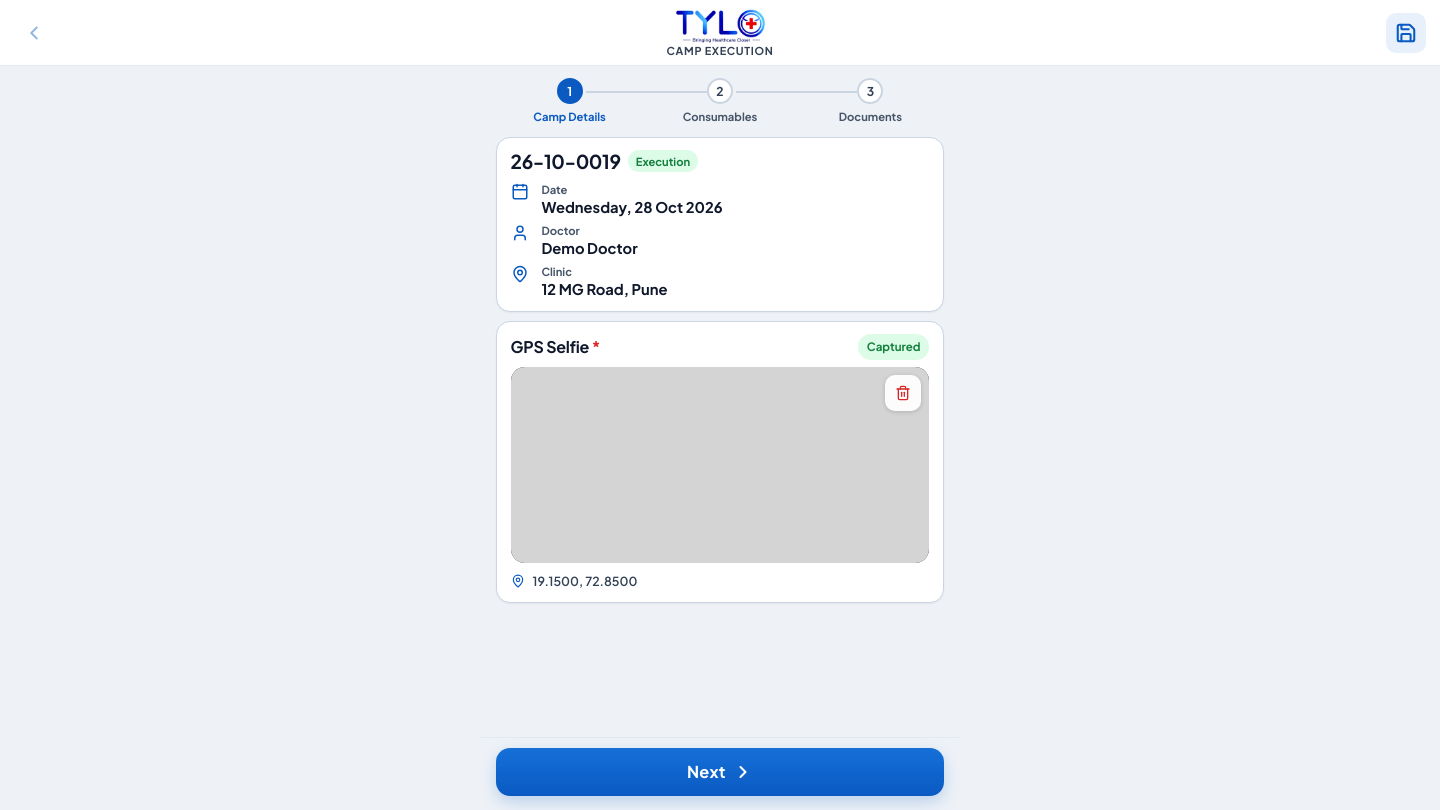
Scenario: CampExecutePage activity form layout › saves In Time from an existing GPS selfie capture without showing the field
Expected: the text "26-10-0019" is shown, [511, 150, 621, 172]
Click the button "Next" at (720, 772), box [496, 748, 944, 796]
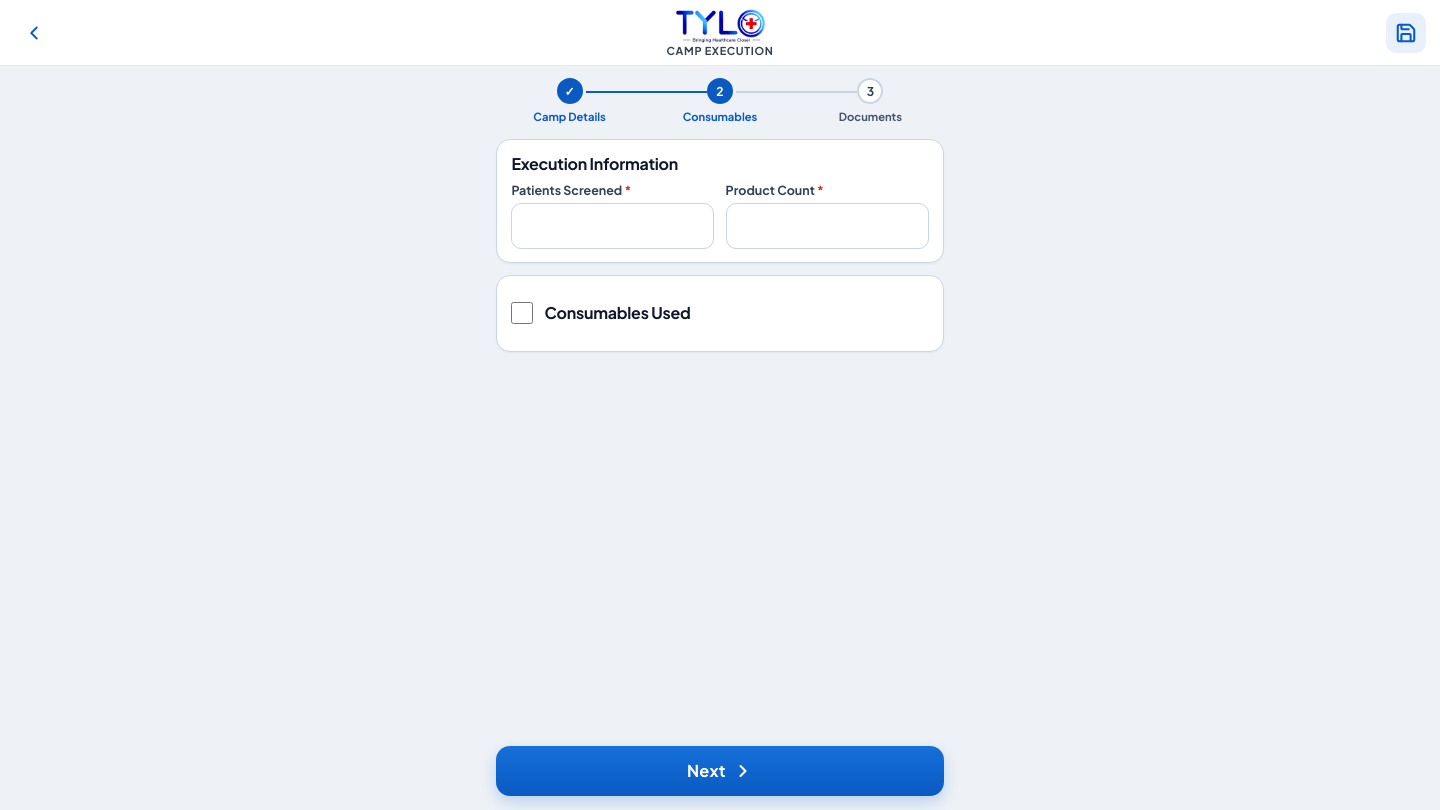
Expected: the heading "Execution Information" is shown, [511, 153, 678, 174]
